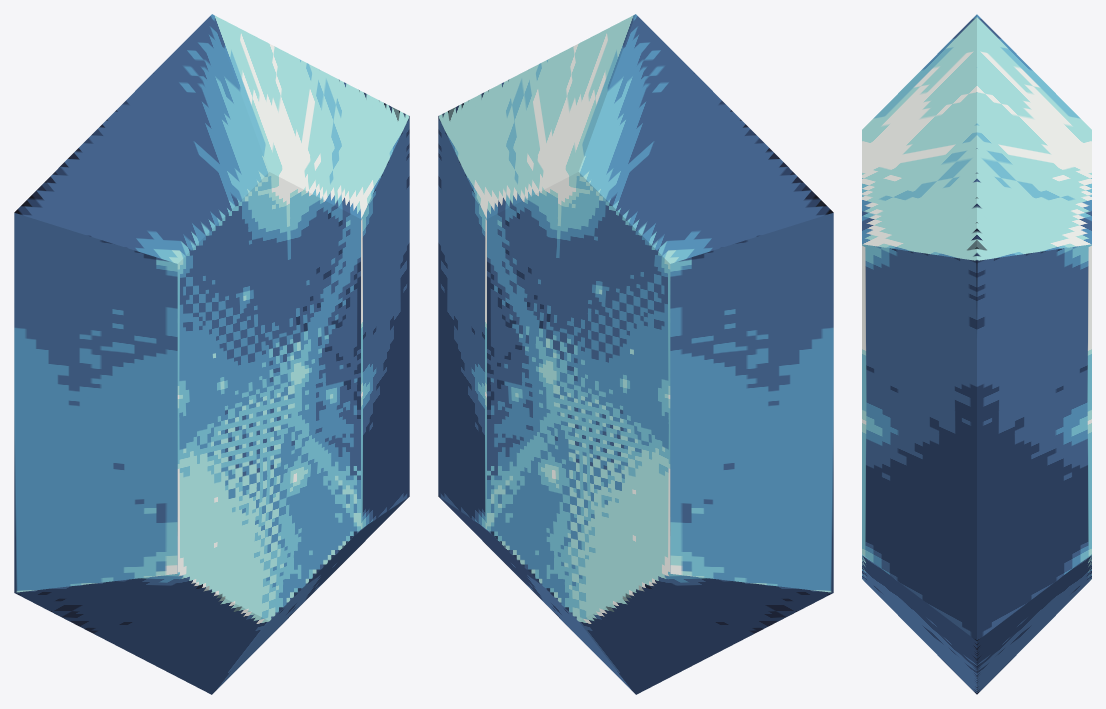
File: gem.glb
3 renders of one model, left to right at view 1: azimuth 30°, elevation 25°; view 2: azimuth 150°, elevation 25°; view 3: azimuth 270°, elevation 25°, orthographic.
Parts seen in each view (by area): view 1: gem.001; view 2: gem.001; view 3: gem.001.
Part boxes in pixels (box(x1,y1,x2,y2)): gem.001: box(14, 14, 409, 694); gem.001: box(438, 14, 833, 694); gem.001: box(862, 14, 1091, 694).
Bounding box in the file's own units: 0.3541 × 0.5824 × 0.1781.
1 material, 1 textured.
